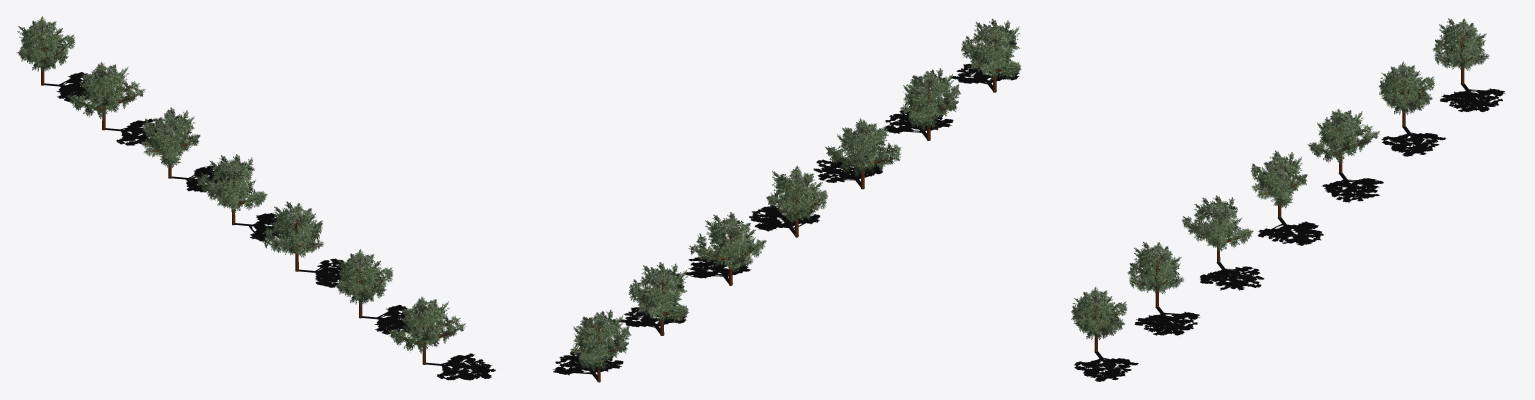
Rendered from treelineNS.glb.
3 views of the same model, side by side, from view 1: azimuth 30°, elevation 25°; view 2: azimuth 150°, elevation 25°; view 3: azimuth 330°, elevation 25° (orthographic). The views are drawn at different scales.
Visible parts, largest first — view 1: 0leaves; view 2: 0leaves; view 3: 0leaves.
Part boxes in pixels (x1=…): 0leaves: x1=16, y1=16, x2=495, y2=380; 0leaves: x1=553, y1=18, x2=1021, y2=382; 0leaves: x1=1071, y1=18, x2=1504, y2=381.
Size of the model in its own units: 24.91 by 15.19 by 174.
7 materials, 6 textured.
